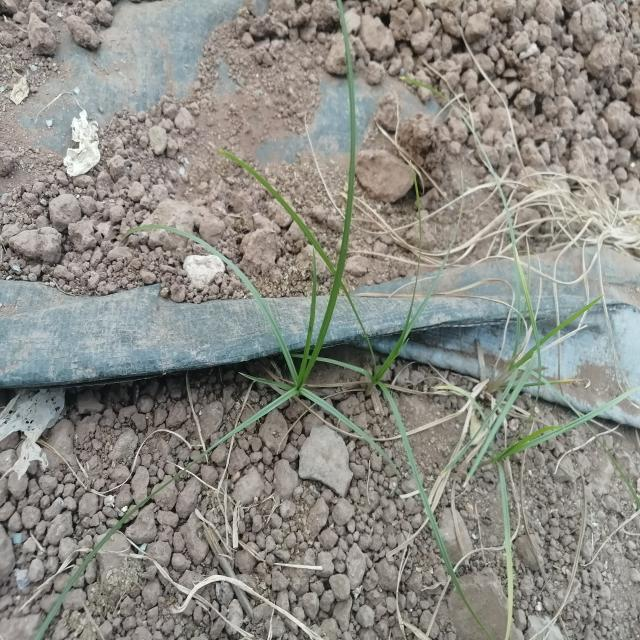sedge: (200, 112, 533, 568)
